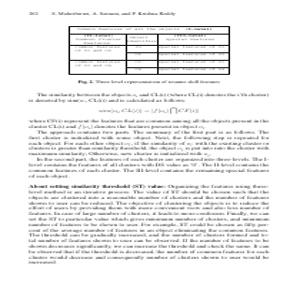table: (66, 24, 231, 75)
text: (23, 90, 274, 269)
